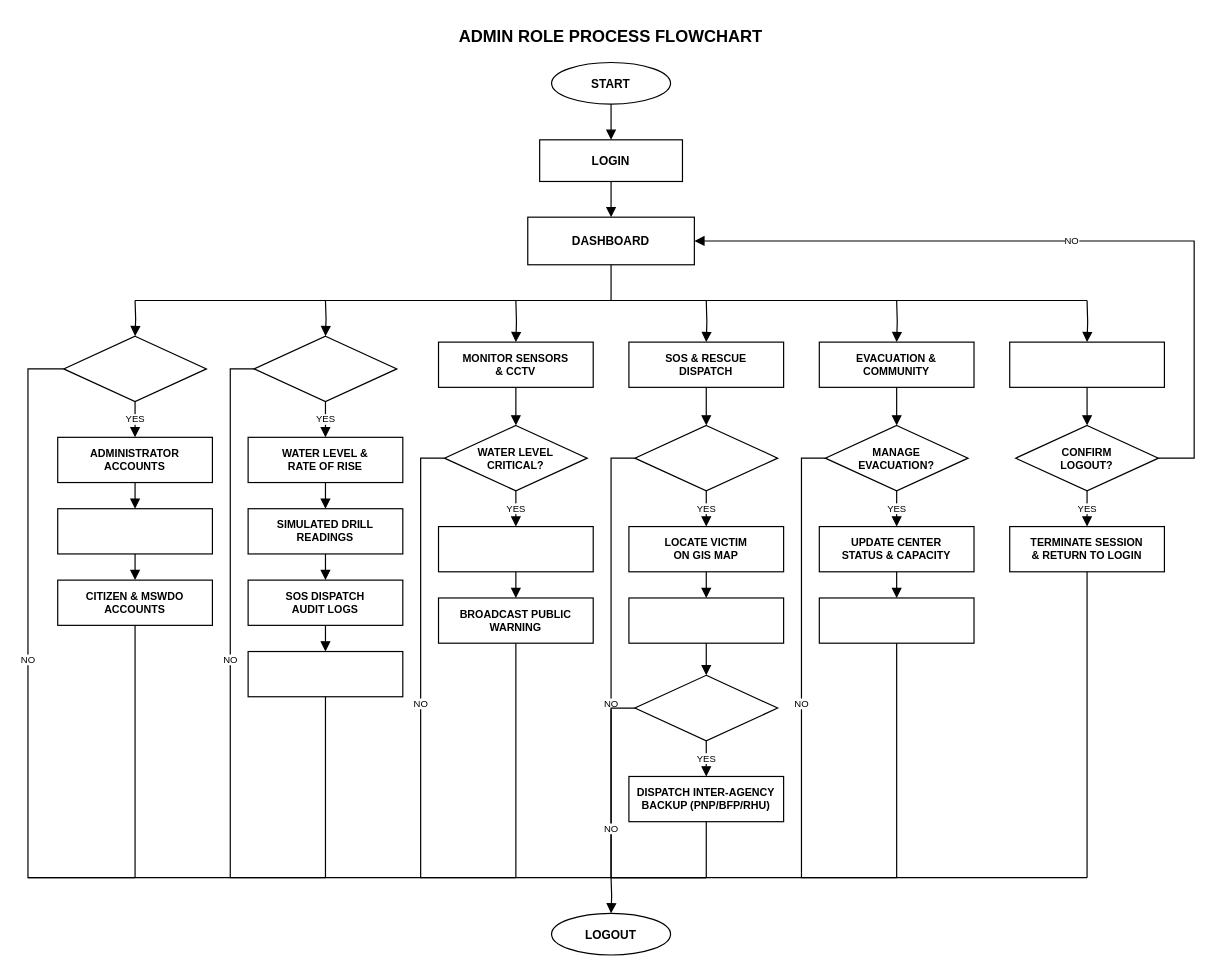
Some shapes in this 1225 by 976 pixel diagram are drawn without their labels. Here are the shapes that lost their labels. From the top down, the centre of each, then its label:
(134,368): MANAGE ACCOUNTS?
(325,368): VIEW REPORTS?
(1086,364): LOG OFF APPLICATION
(706,457): INCOMING SOS ALERT?
(134,531): RESPONDER ACCOUNTS
(515,548): TRIGGER AUDIBLE SIREN ALARM
(706,620): DISPATCH PRIMARY RESPONDER
(896,620): POST COMMUNITY FLOOD ADVISORY
(325,673): EXPORT PDF SUMMARY REPORTS
(706,707): BACKUP REQUIRED?
